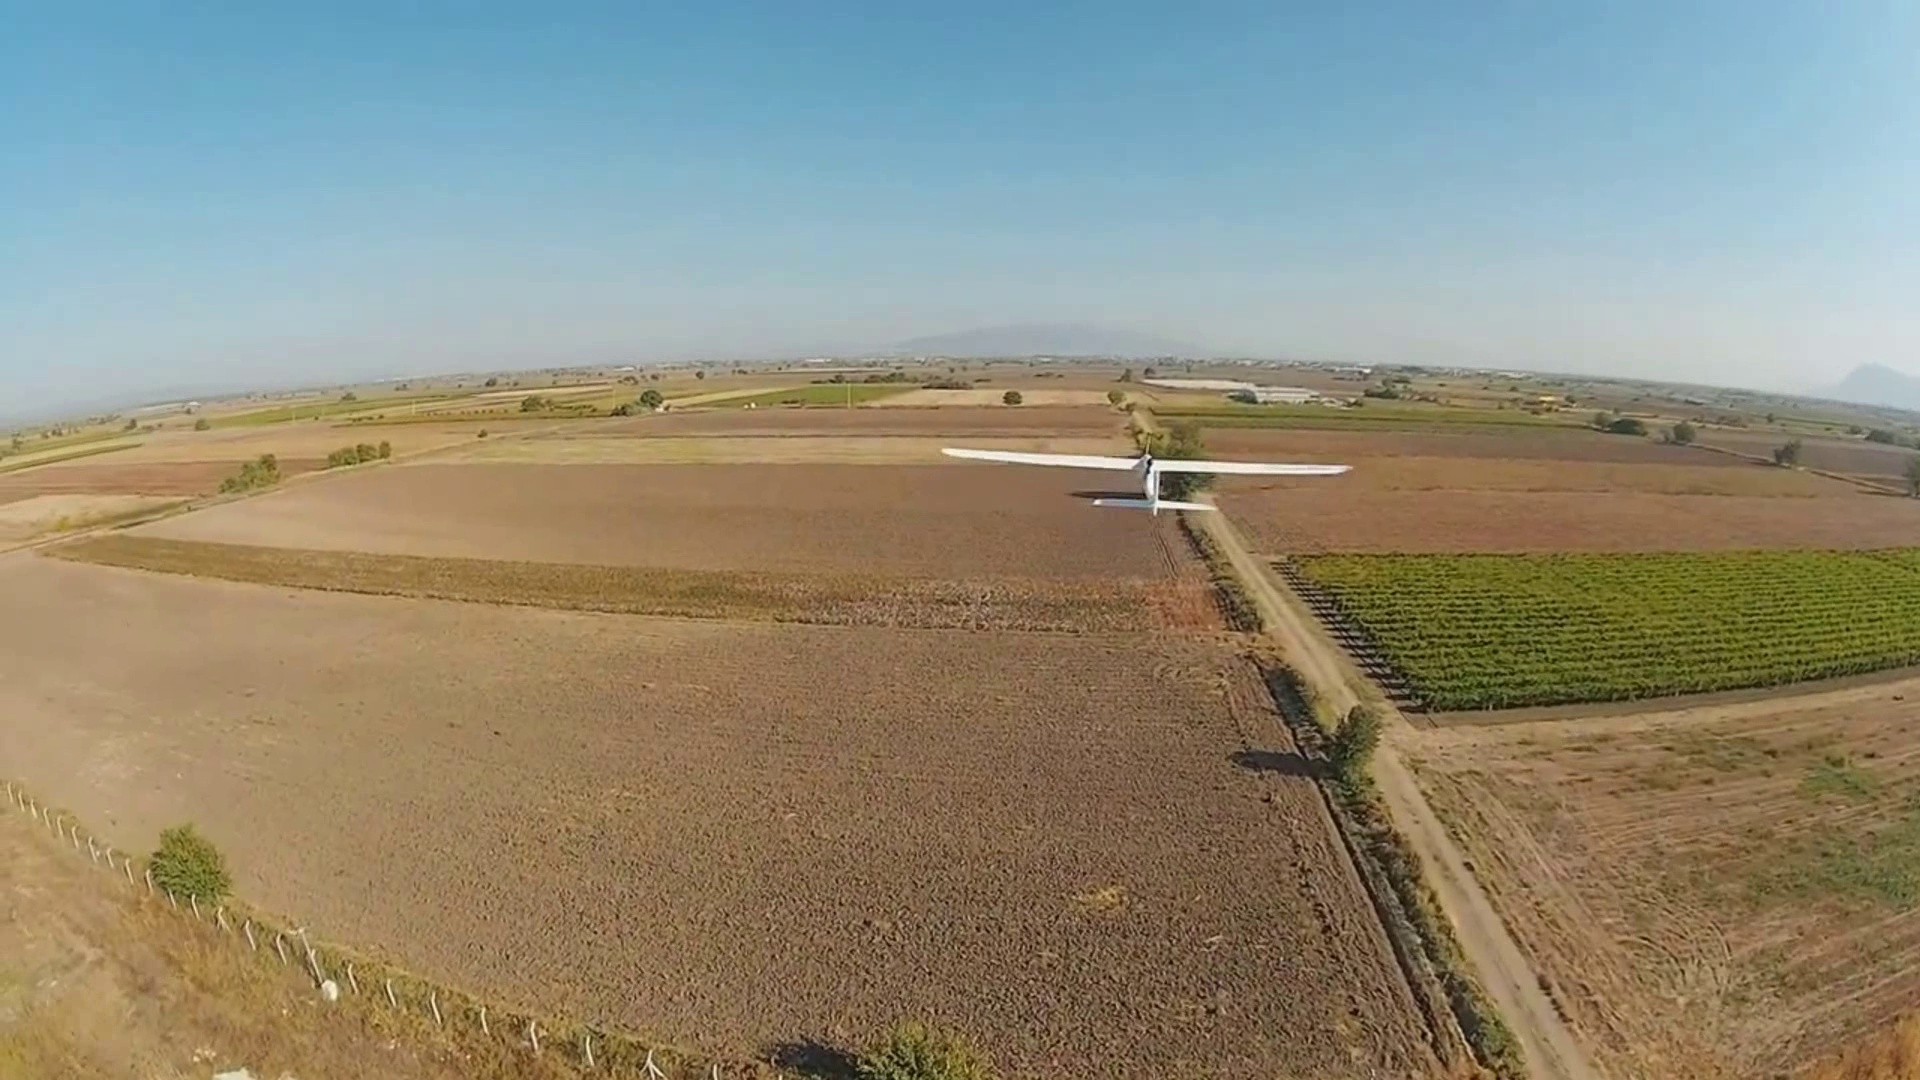airplane: (938, 410, 1353, 514), (933, 446, 1353, 511)
